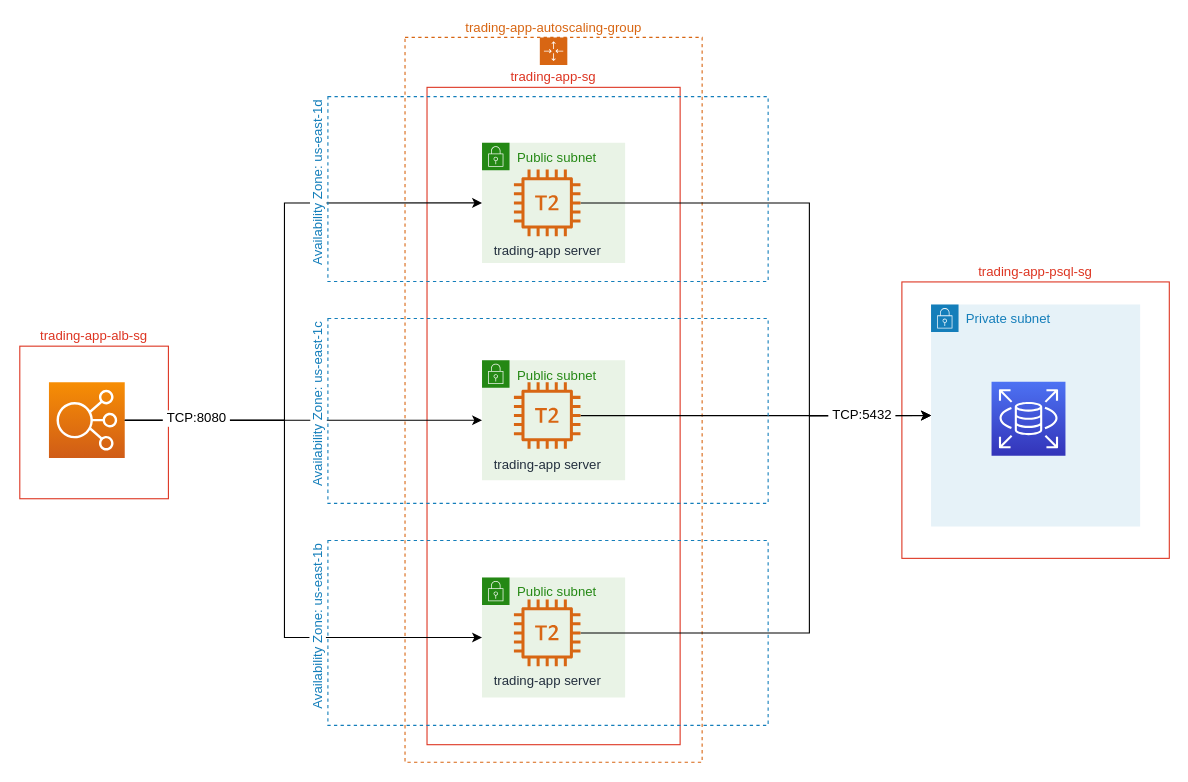
This 1188x782 diagram has some shape labels left out. The shapes that lost their labels are listed below. From the top down, each one's centre as x and y in pixels, then its label:
At pixel 86 419: "trading-app-alb".
At pixel 1027 418: "RDS: PostgreSQL".
